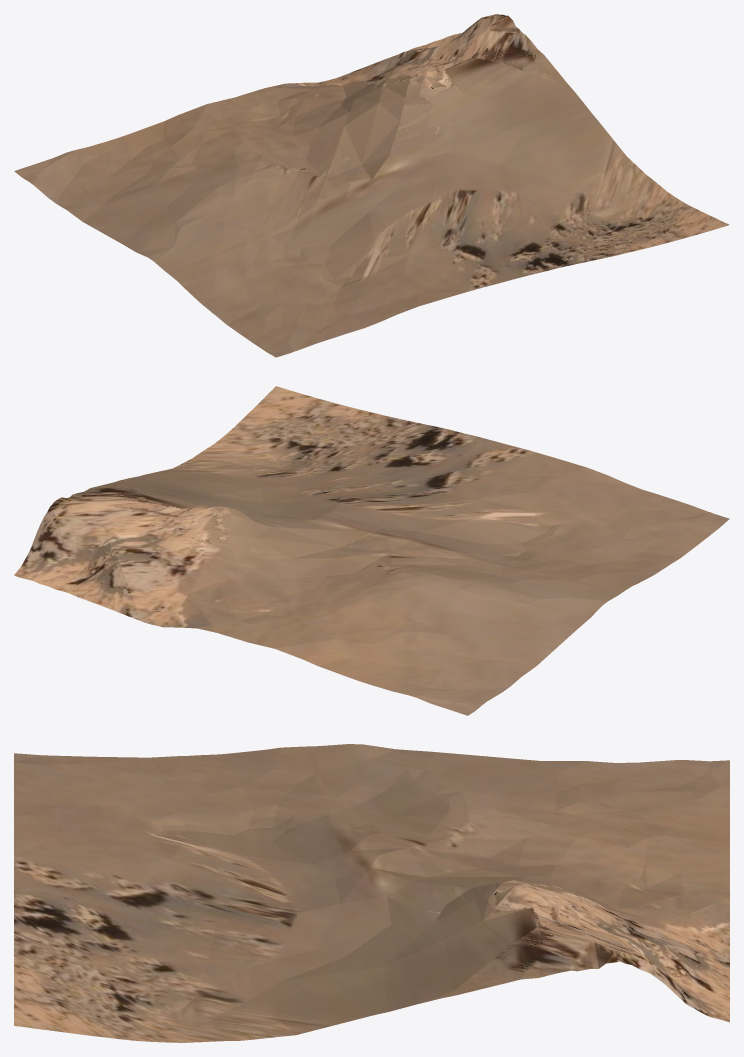
3 views of the same model, one above another, from view 1: azimuth 30°, elevation 25°; view 2: azimuth 150°, elevation 25°; view 3: azimuth 270°, elevation 25° (orthographic). The views are drawn at different scales.
Size of the model in its own units: 1.04 by 0.1735 by 1.04.
2 materials, 2 textured.
